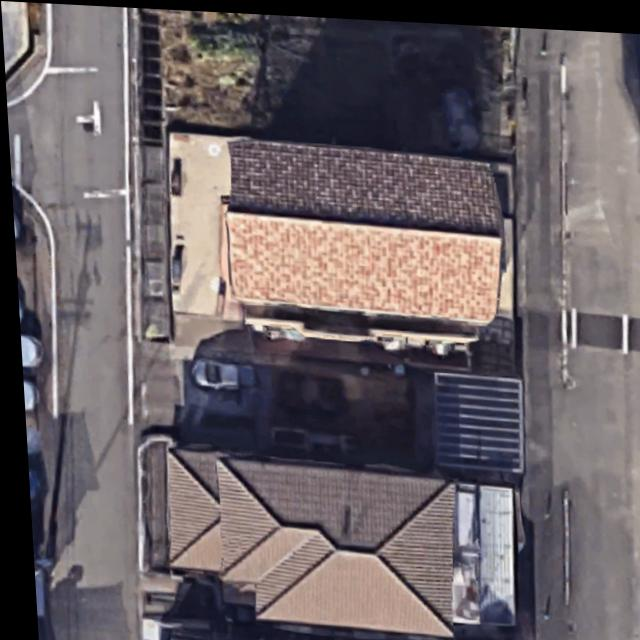Batiment: (161, 448, 449, 632), (222, 136, 498, 317)
